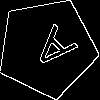A: (22, 23, 79, 80)
